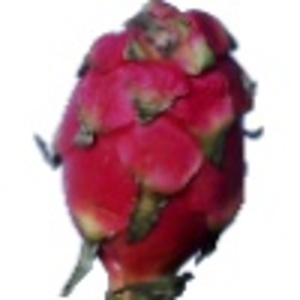pitaia: (35, 1, 264, 300)
